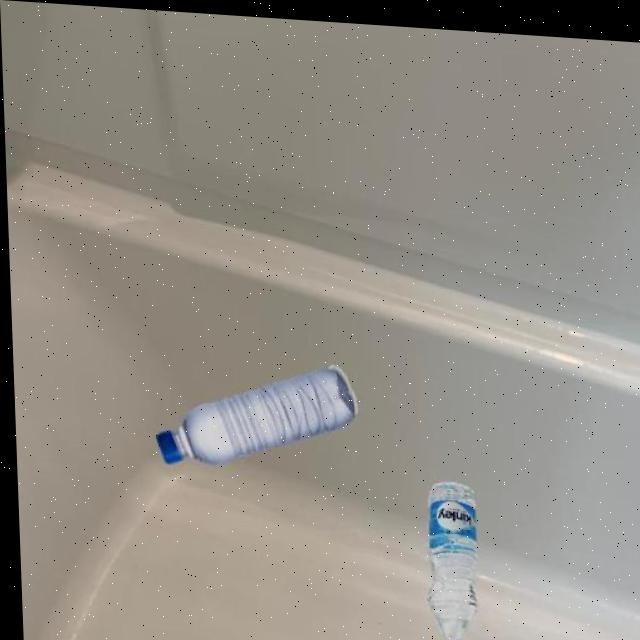bottle: (148, 348, 357, 473), (418, 472, 478, 640)
